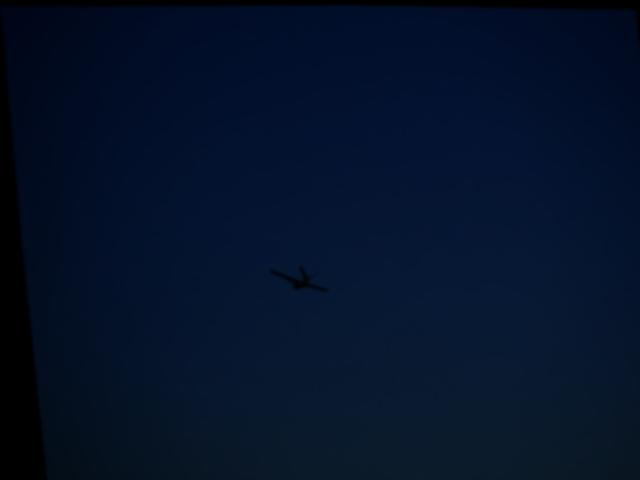plane: (265, 263, 323, 292)
